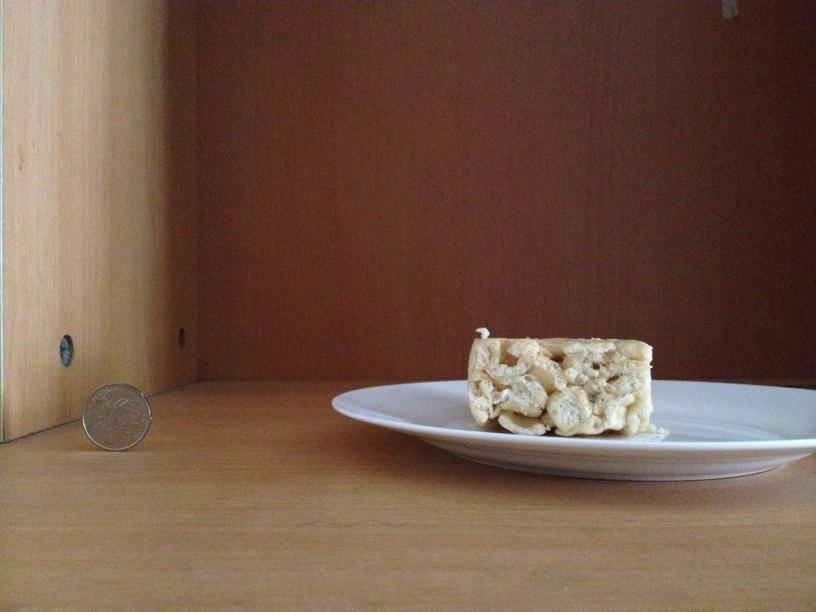coin: (79, 380, 152, 450)
sachima: (467, 335, 656, 436)
